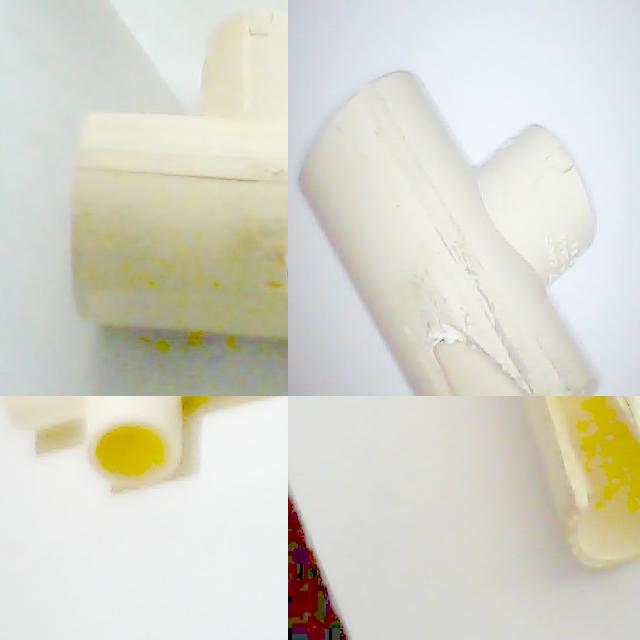Defective: (530, 396, 640, 512), (547, 396, 640, 509), (419, 319, 550, 396)
T Joint: (297, 71, 600, 396), (69, 8, 288, 345), (517, 396, 640, 574)
